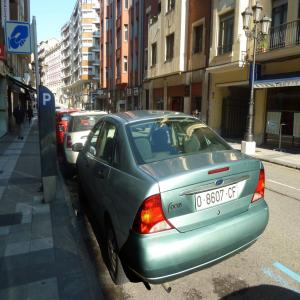Vehicle-registration-plate: (195, 186, 238, 211)
